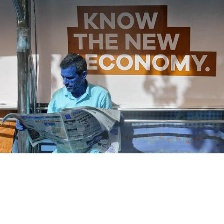news_paper: (0, 104, 124, 153)
